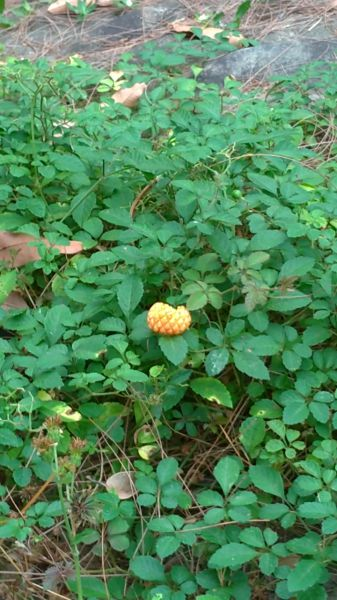eggs: (141, 299, 197, 343)
